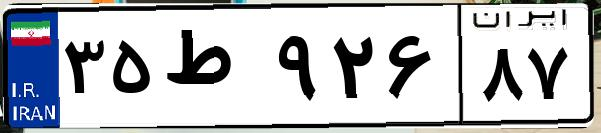2: (330, 28, 385, 110)
3: (57, 26, 110, 100)
5: (110, 28, 158, 98)
6: (385, 28, 445, 110)
7: (525, 38, 570, 115)
8: (475, 38, 525, 113)
9: (270, 28, 330, 110)
ط: (158, 20, 270, 120)
